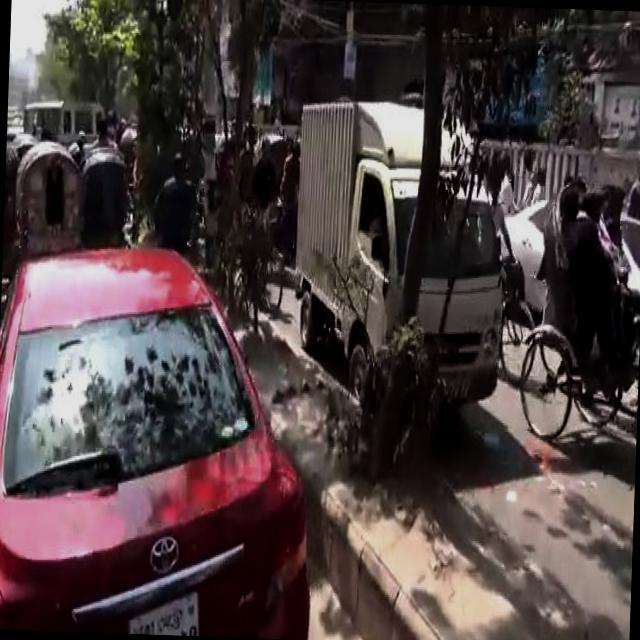bus: (17, 92, 104, 136)
car: (0, 236, 325, 638), (496, 191, 550, 317)
motorcycle: (515, 172, 640, 444), (12, 132, 88, 253), (248, 124, 300, 288), (76, 141, 130, 248)
truck: (286, 91, 513, 406)
